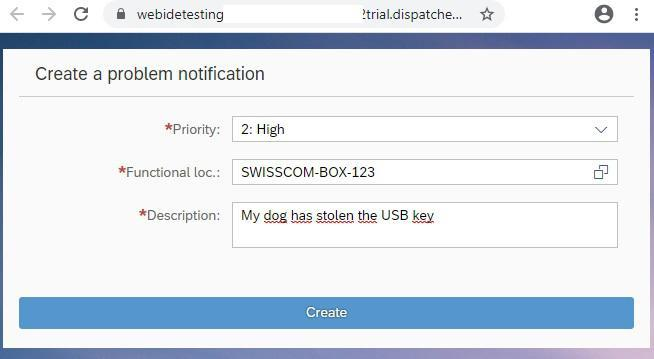button: (21, 299, 635, 331)
dropdown: (233, 117, 619, 143)
icon: (479, 7, 498, 25), (633, 5, 642, 27)
input: (235, 203, 619, 249), (234, 161, 619, 186)
label: (36, 64, 267, 86), (113, 161, 225, 185), (136, 203, 225, 230), (163, 117, 226, 141)
